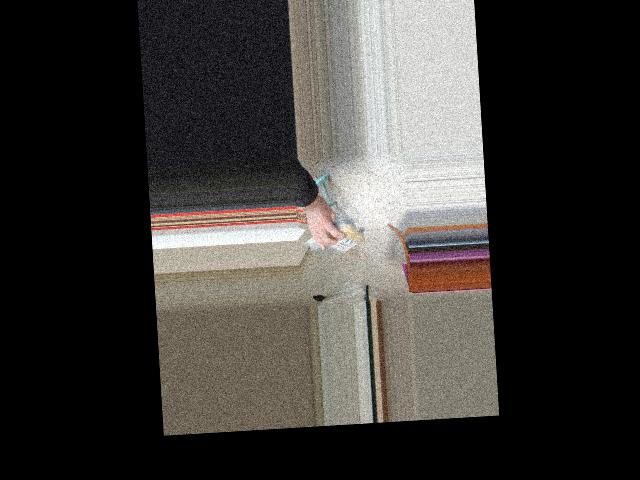cheese: (303, 222, 365, 255)
